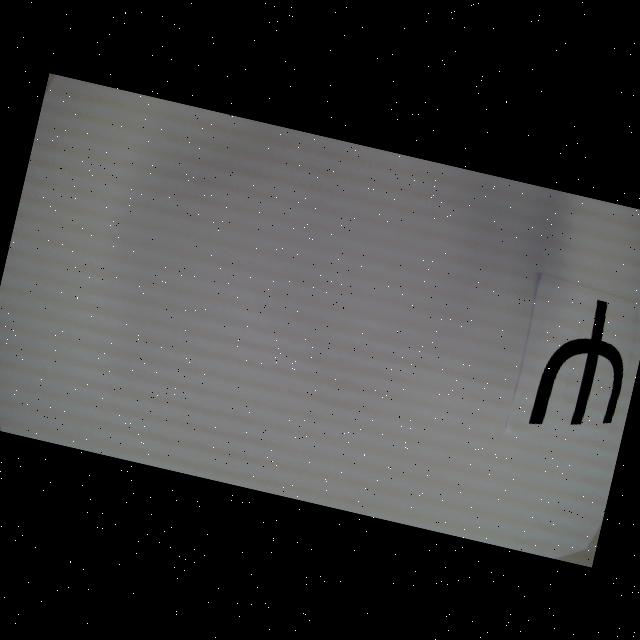PSI: (527, 288, 640, 442)
